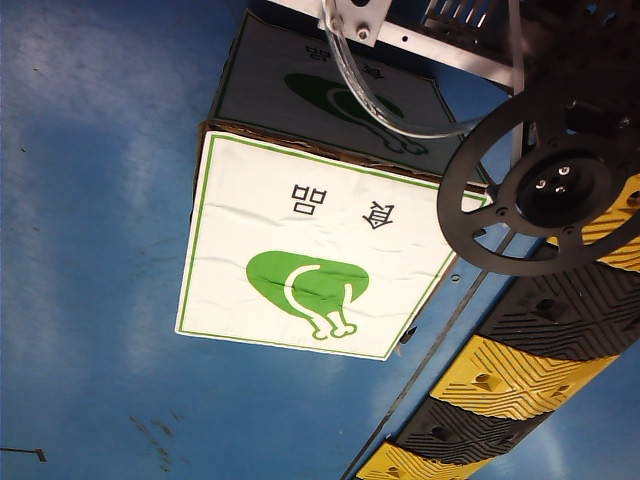Cube_food: (240, 176, 408, 351)
